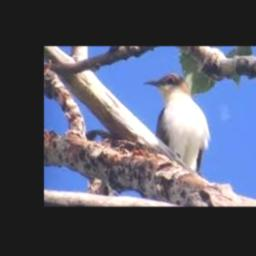Cuckoo: (142, 74, 210, 173)
